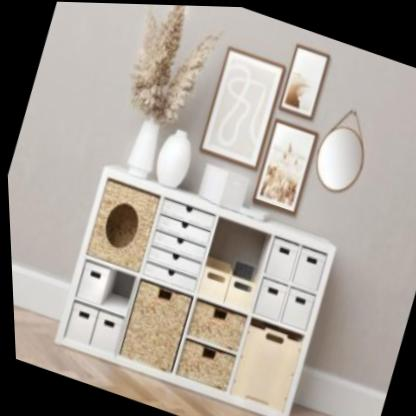Shelf: (37, 154, 348, 416)
